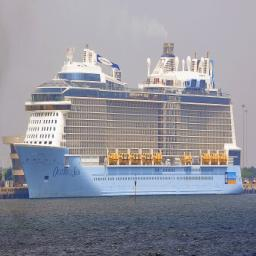cruises: (14, 37, 246, 199)
